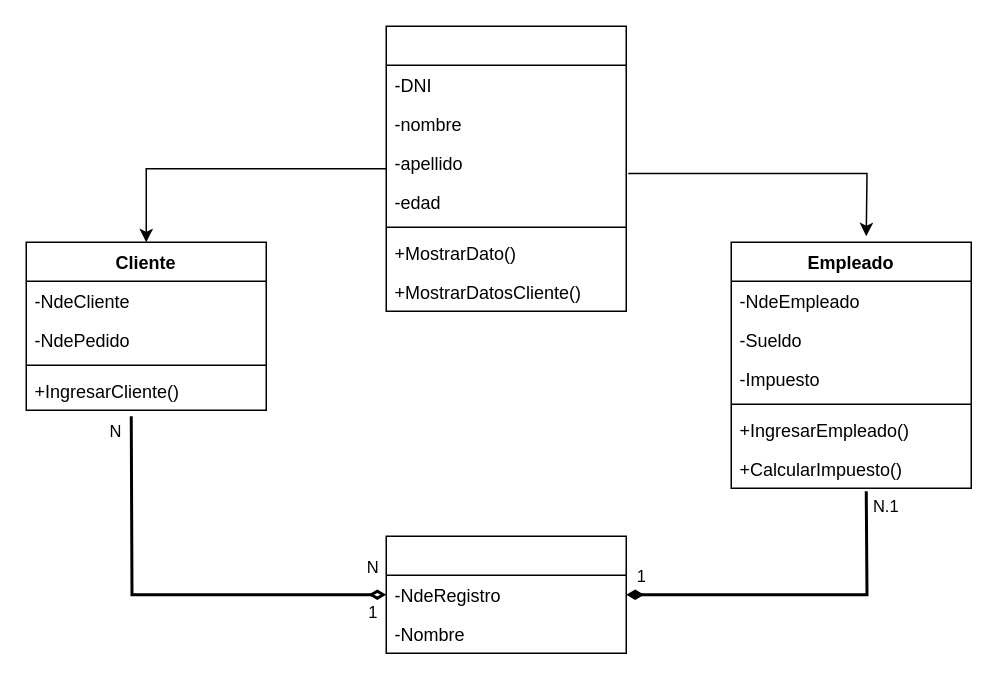
This 998x684 diagram has some shape labels left out. Here are the shapes that lost their labels. From the top down, the box of each, then its label:
(385, 25, 626, 311): Persona
(385, 535, 626, 653): Empresa
